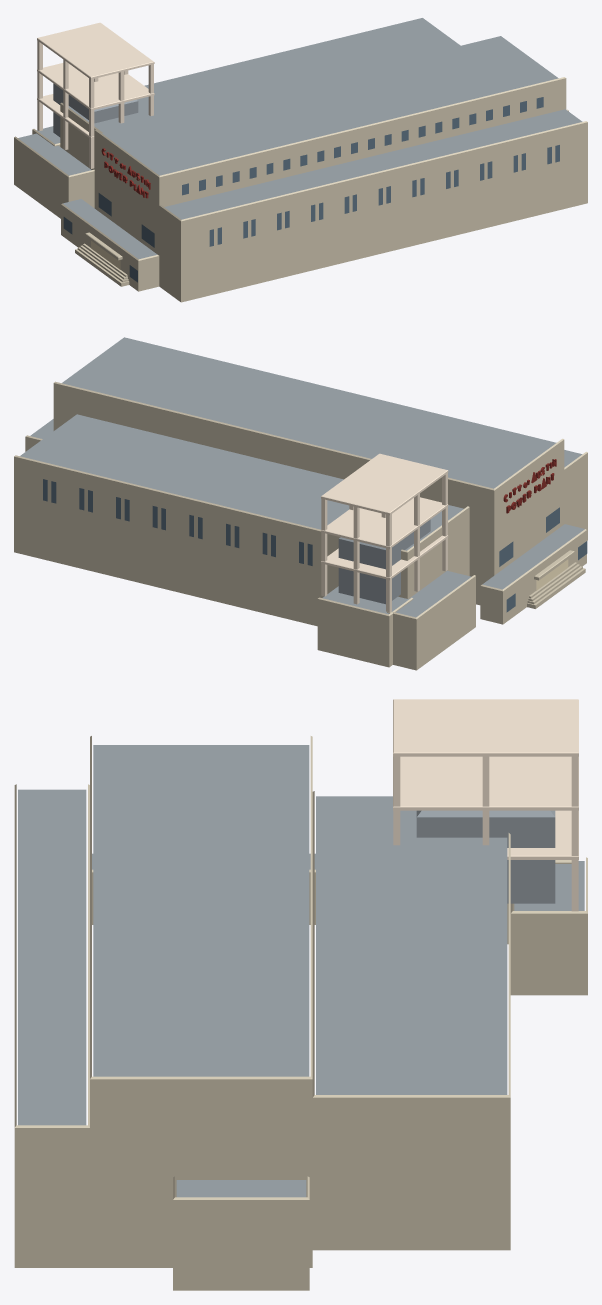
File: atx-seaholm-power-plant.glb
3 views of the same model, one above another, from view 1: azimuth 30°, elevation 25°; view 2: azimuth 150°, elevation 25°; view 3: azimuth 270°, elevation 25° (orthographic). The views are drawn at different scales.
Parts seen in each view (by area): view 1: Seaholm Power Plant; view 2: Seaholm Power Plant; view 3: Seaholm Power Plant.
Boxes of the visible parts, box(x1,y1,x2,y2) form: Seaholm Power Plant: box(14, 18, 587, 302); Seaholm Power Plant: box(14, 337, 587, 670); Seaholm Power Plant: box(14, 699, 587, 1290).
Bounding box in the file's own units: 93.1 × 27 × 57.96.
